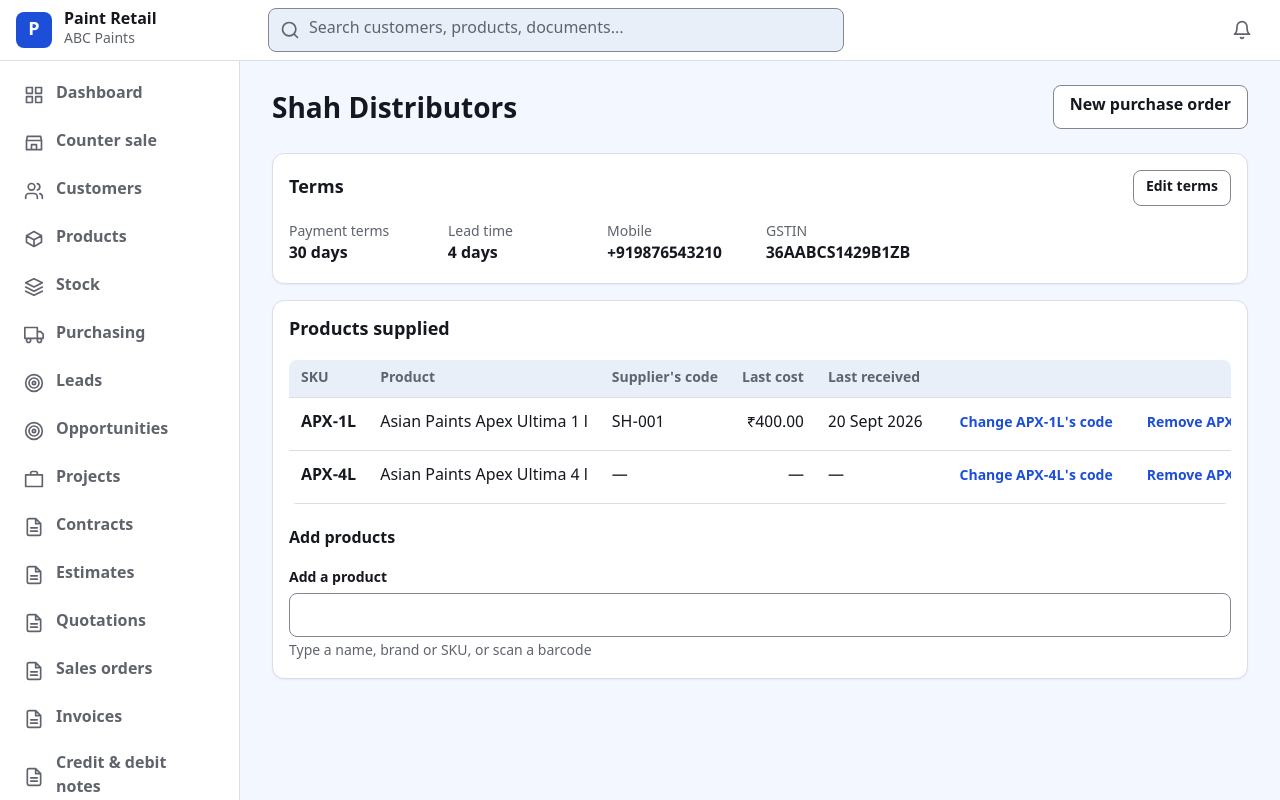
Scenario: SupplierDetailPage › edits the terms after checking the days
Click the button "Edit terms".
click(1182, 188)  # box [1133,170,1231,206]
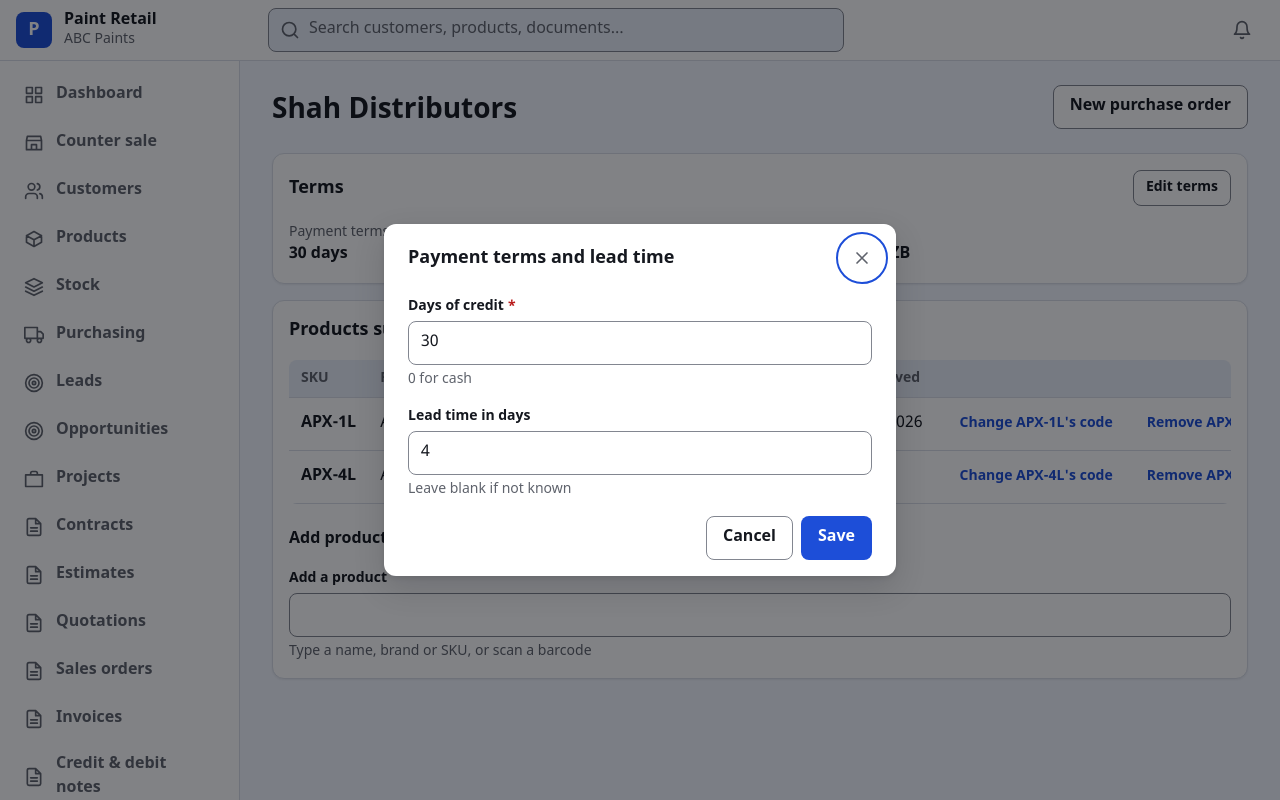
Result: the field labelled "Days of credit *" holds "30"
Result: the field labelled "Lead time in days" holds "4" at [408,431,872,475]
Clear the field labelled "Days of credit *" at (640, 343), box [408,321,872,365]
Replace the text in the field labelled "Lead time in days" with "999" at (640, 453), box [408,431,872,475]
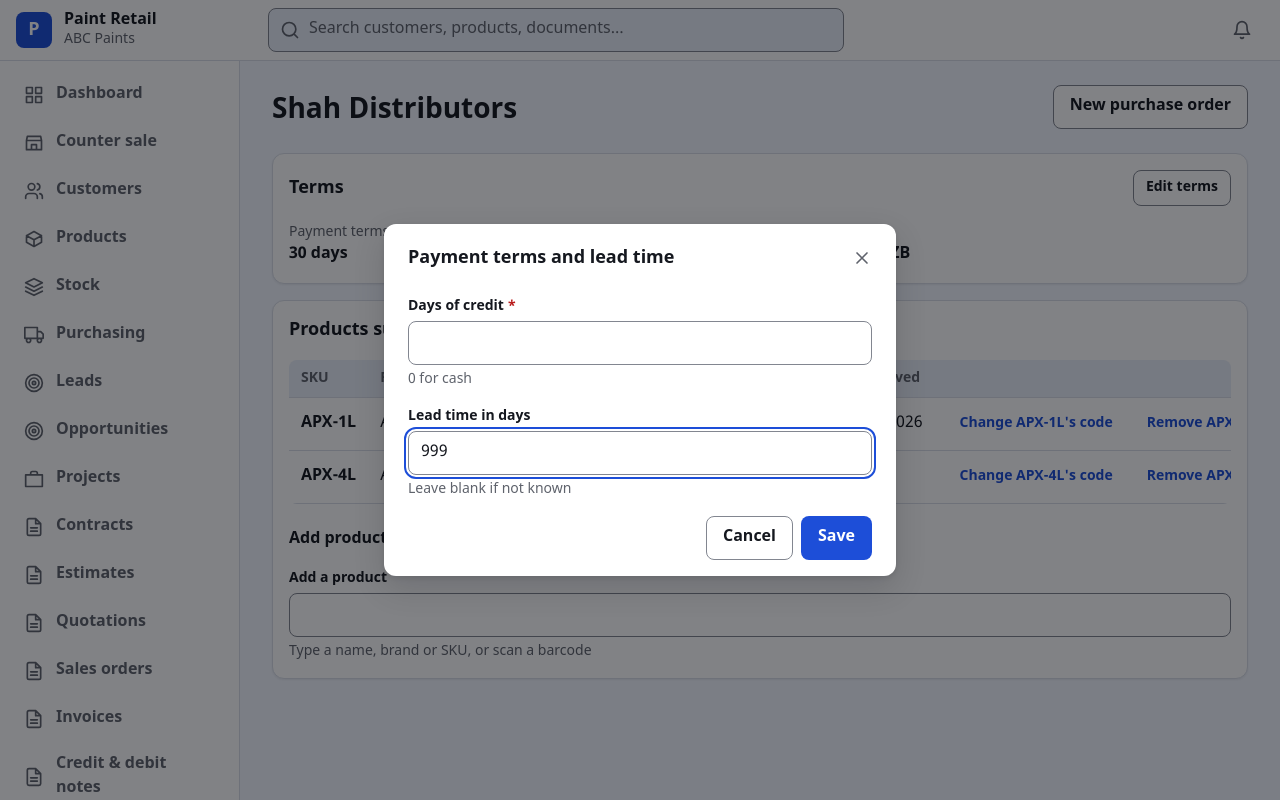
Click the button "Save".
click(836, 538)  # box [801,516,872,560]
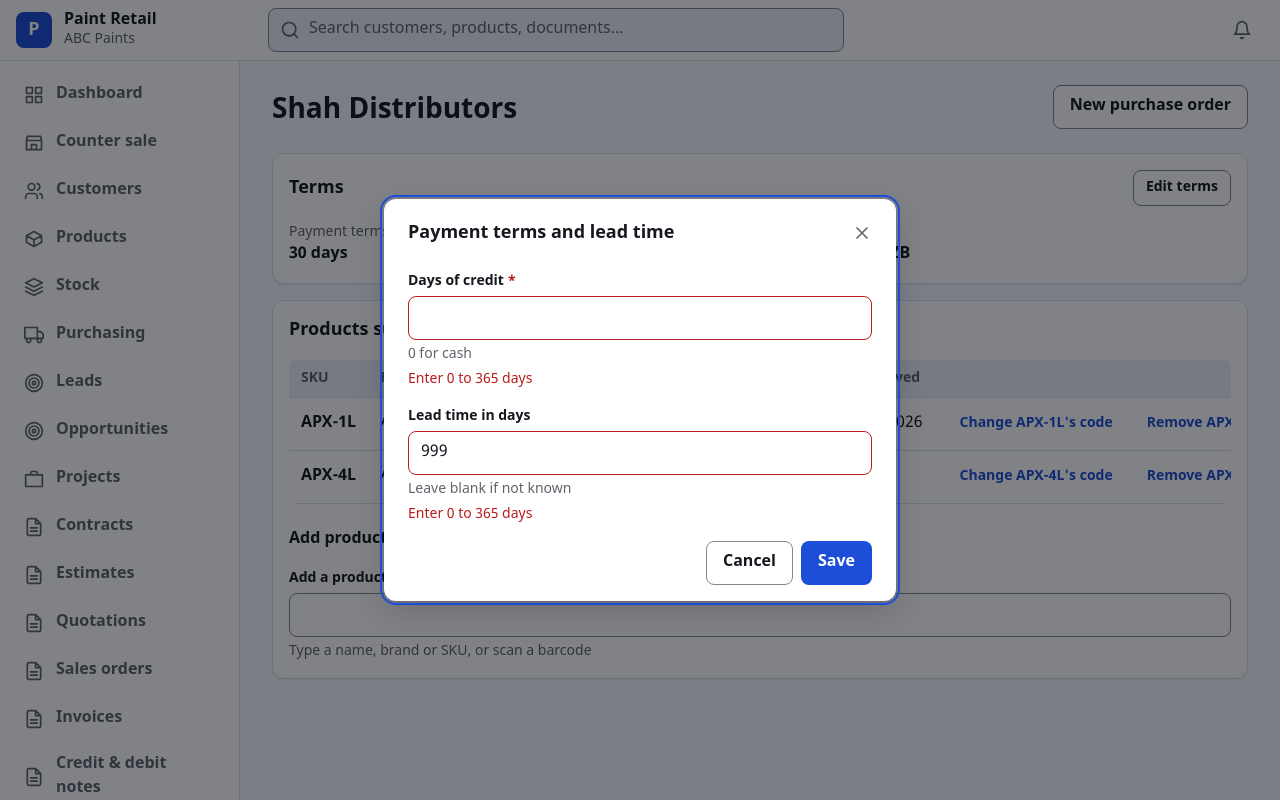
Result: the text "Enter 0 to 365 days" is shown 2 times at [408,370,532,389]; [408,505,532,524]
Type "45" into the field labelled "Days of credit *".
click(640, 318); type("45")  # box [408,296,872,340]
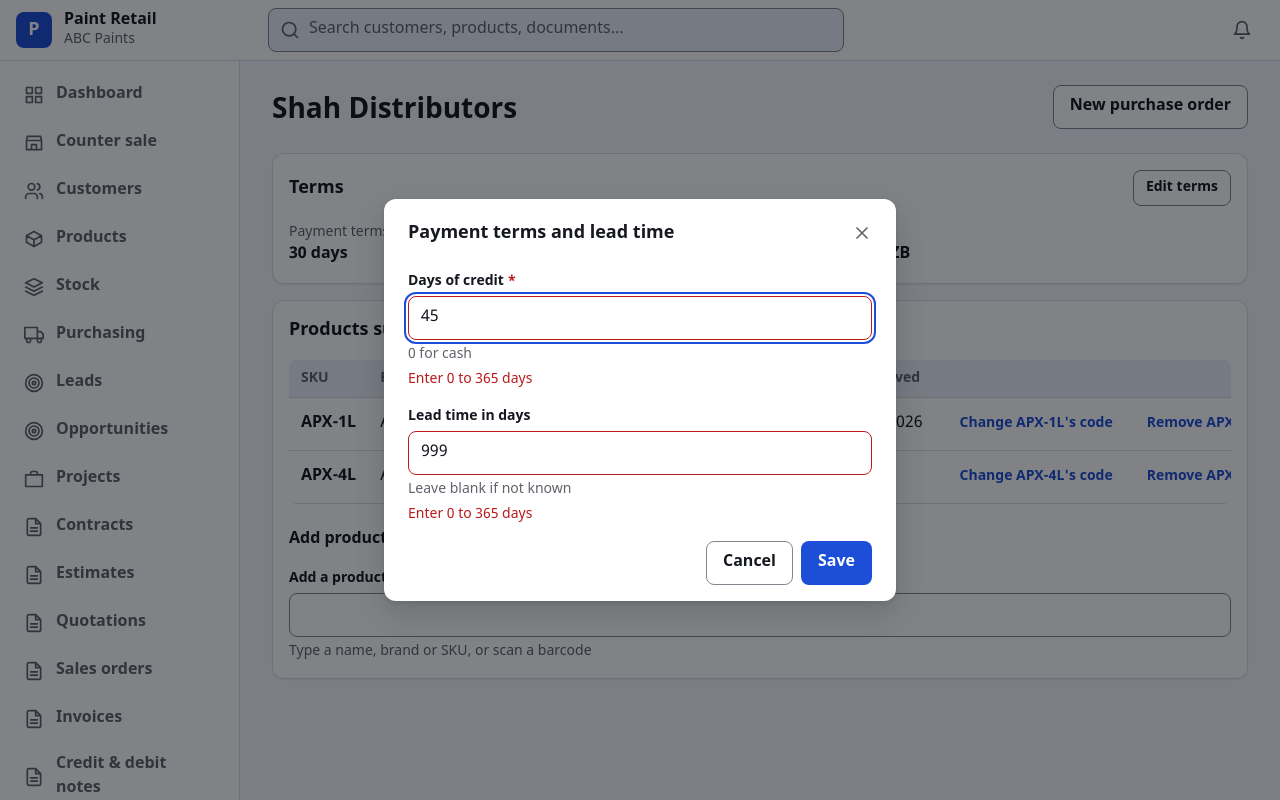
Clear the field labelled "Lead time in days" at (640, 453), box [408,431,872,475]
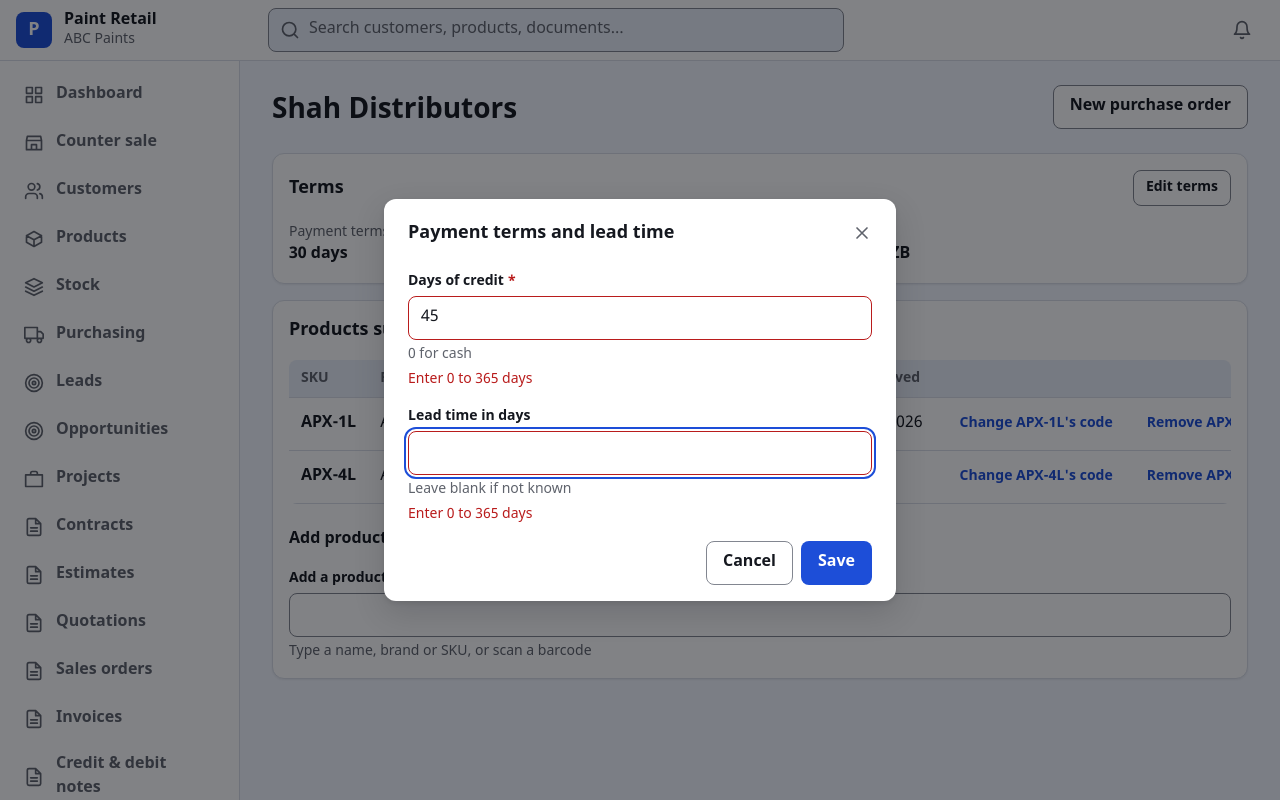
Click the button "Save".
click(836, 563)  # box [801,541,872,585]
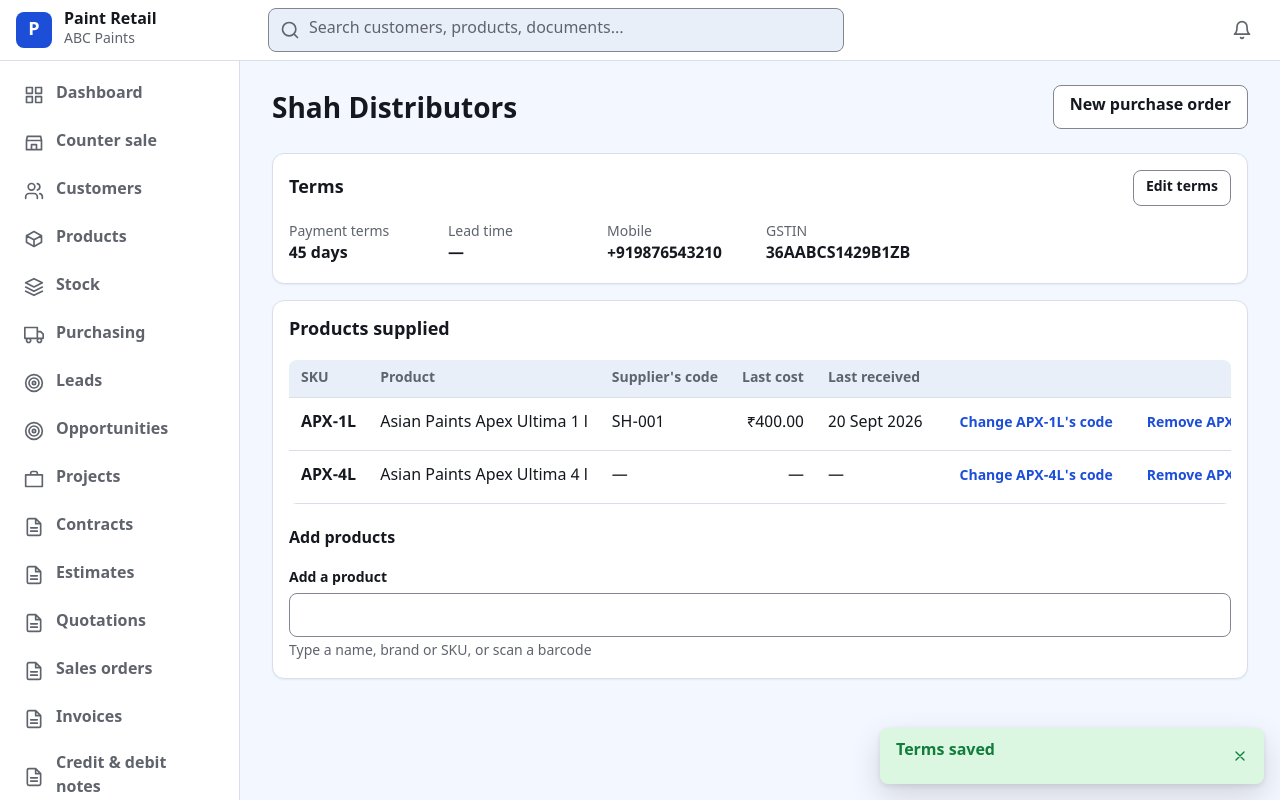
Result: the text "Terms saved" is shown at [896,741,995,762]
Result: the element "Terms" shows "45 days" at [289,244,348,265]
